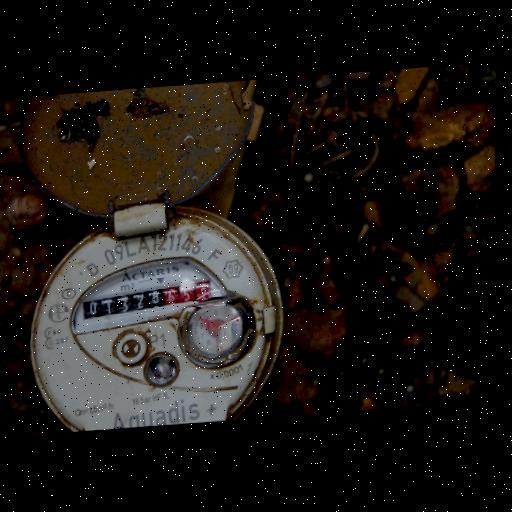0: (82, 299, 102, 321)
1: (97, 296, 118, 317)
2: (191, 280, 213, 303), (130, 291, 150, 312)
3: (113, 295, 134, 315)
5: (176, 284, 196, 304)
6: (161, 286, 181, 306)
8: (145, 289, 165, 309)
border_water_meter_number: (79, 277, 215, 325)
